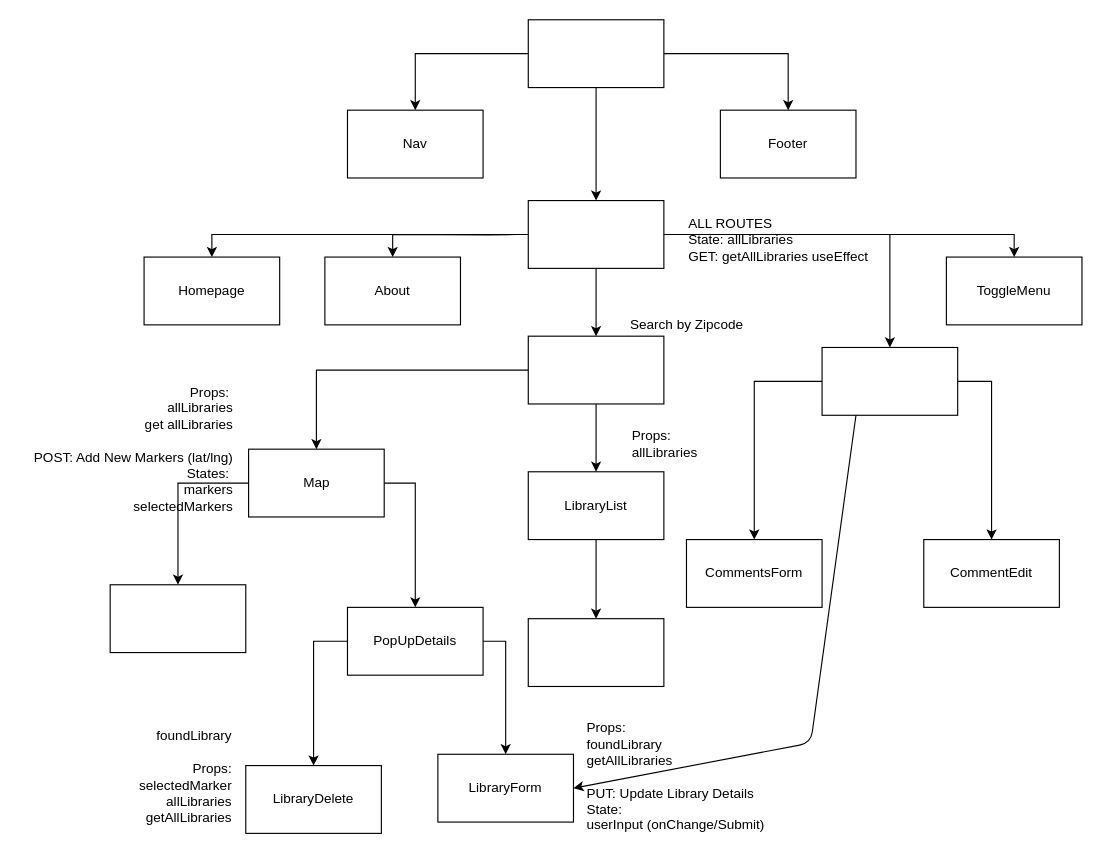
This 1102x853 diagram has some shape labels left out. Here are the shapes that lost their labels. From the top down, the box of each, then its label:
(527, 19, 664, 88): App
(527, 199, 664, 268): Main
(527, 335, 664, 404): FindLibrary
(821, 346, 958, 415): LibraryPage
(109, 584, 246, 653): Location Search
(527, 618, 664, 686): FilterBar
